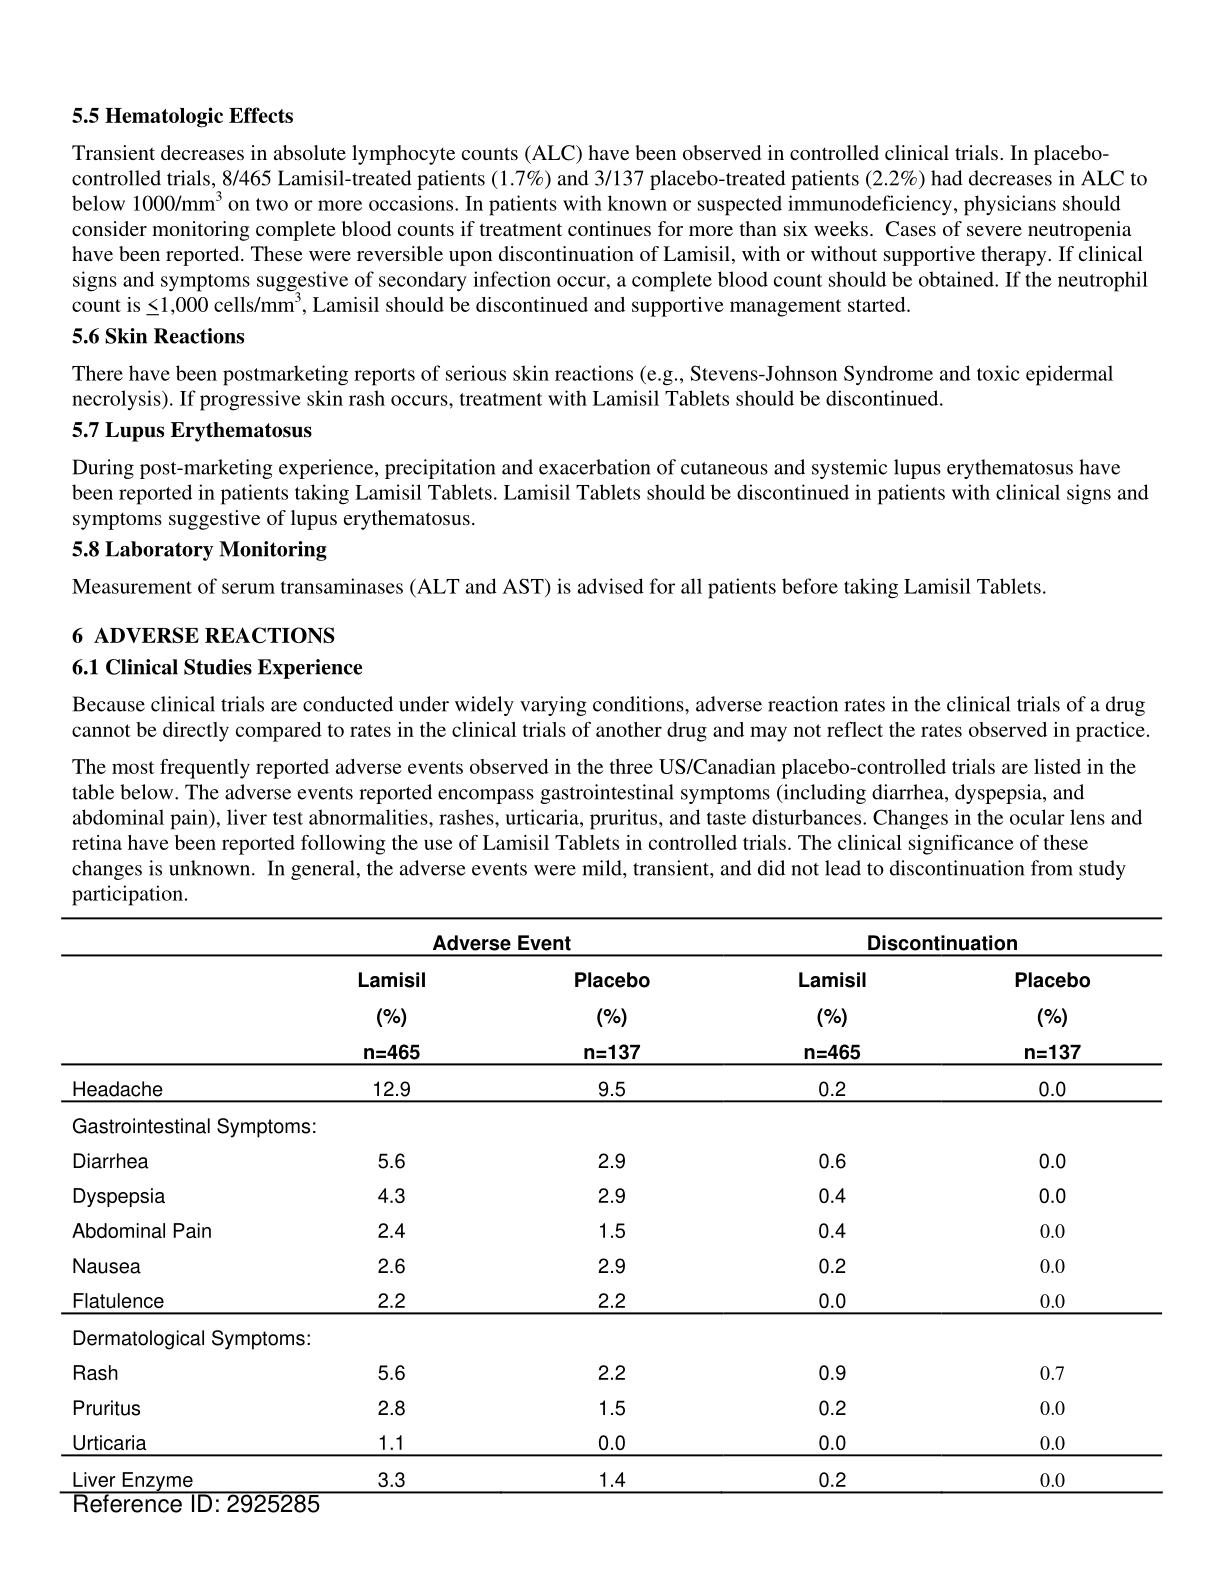partial_lined_merged_cells: (60, 914, 1164, 1495)
